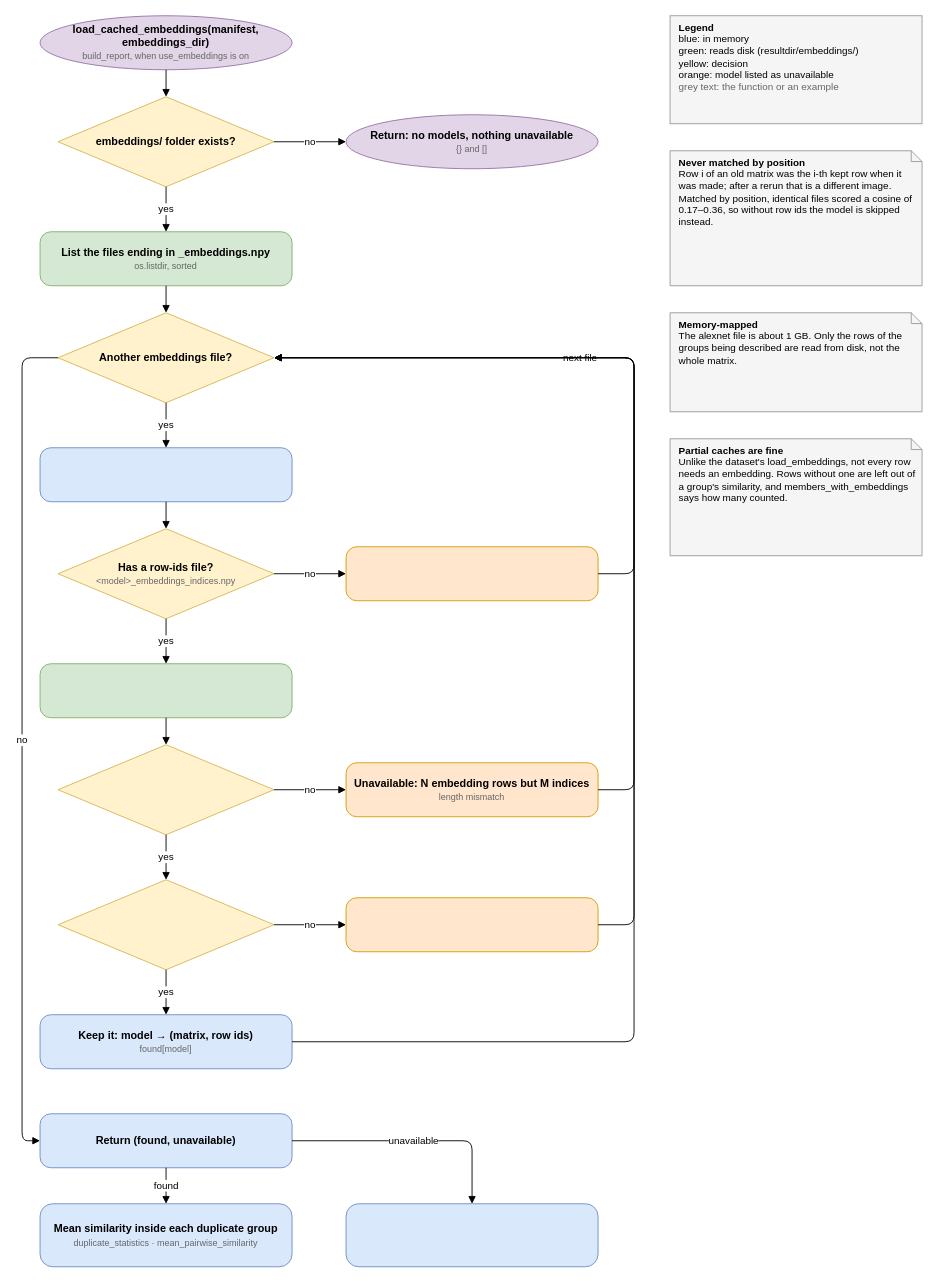
This 938x1283 diagram has some shape labels left out. Each missing label, with the box of its shape:
2-D, with one row id per row?: (57, 744, 274, 835)
Every row id still in the manifest?: (57, 879, 274, 970)
Listed in the JSON duplicates.similarity_unavailable: (345, 1203, 598, 1267)
Memory-map the matrix and load the row ids np.load(mmap_mode='r'): (39, 663, 292, 718)
Take the model name from the file name alexnet_embeddings.npy → alexnet: (39, 447, 292, 502)
Unavailable: refers to rows not in the manifest the manifest was rebuilt: (345, 897, 598, 952)
Unavailable: rows can't be matched to the manifest no indices file: (345, 546, 598, 601)
